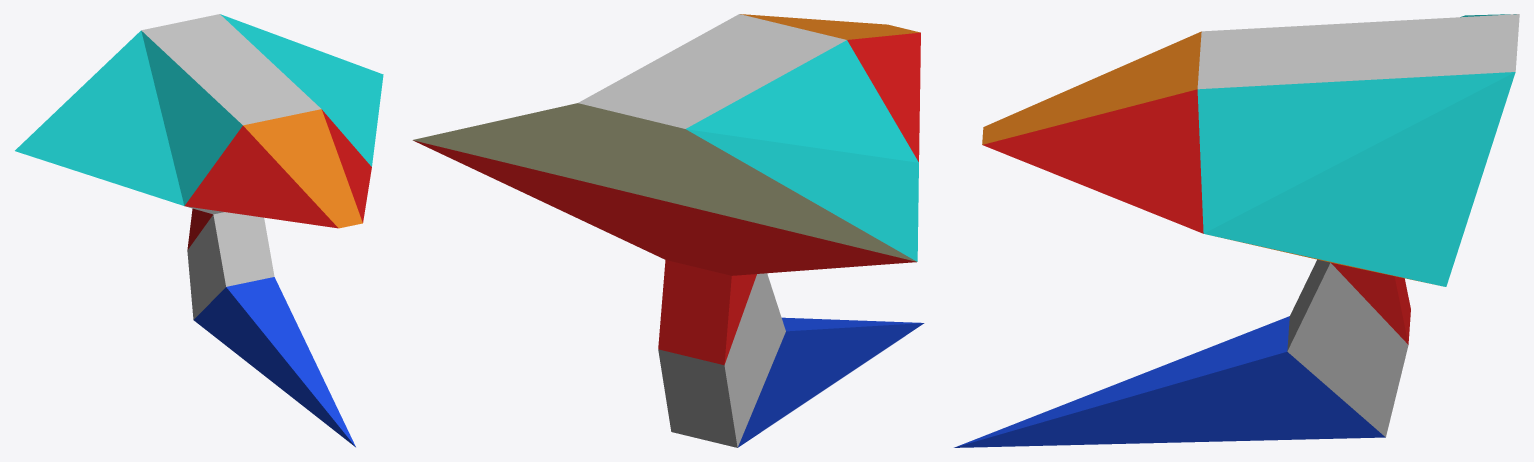
Rendered from Bandit.obj.
The picture shows the model from 3 angles, left to right: view 1: azimuth 30°, elevation 25°; view 2: azimuth 150°, elevation 25°; view 3: azimuth 270°, elevation 25°; orthographic projection. The views are drawn at different scales.
Parts seen in each view (by area): view 1: orange cyan, orange metal, orange blue, orange red, orange; view 2: orange red, orange cyan, orange metal, orange light, orange blue, orange; view 3: orange cyan, orange metal, orange blue, orange red, orange.
Part boxes in pixels (x1=…): orange cyan: x1=15, y1=14, x2=383, y2=205; orange metal: x1=141, y1=14, x2=320, y2=319; orange blue: x1=193, y1=277, x2=355, y2=447; orange red: x1=184, y1=110, x2=371, y2=249; orange: x1=243, y1=109, x2=362, y2=228; orange red: x1=413, y1=32, x2=920, y2=365; orange cyan: x1=686, y1=40, x2=918, y2=261; orange metal: x1=578, y1=14, x2=846, y2=447; orange light: x1=412, y1=103, x2=916, y2=261; orange blue: x1=737, y1=317, x2=924, y2=447; orange: x1=740, y1=14, x2=920, y2=39; orange cyan: x1=1197, y1=14, x2=1516, y2=286; orange metal: x1=1197, y1=14, x2=1519, y2=437; orange blue: x1=954, y1=316, x2=1385, y2=447; orange red: x1=983, y1=89, x2=1410, y2=344; orange: x1=982, y1=31, x2=1432, y2=284.
Bounding box in the file's own units: 122 × 90.86 × 112.
